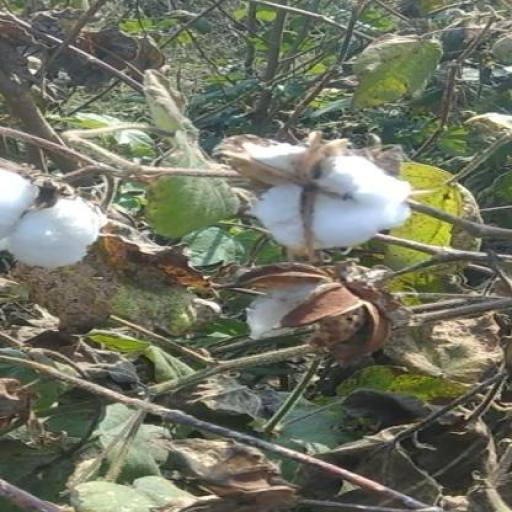cotton_ready: (250, 123, 424, 276)
